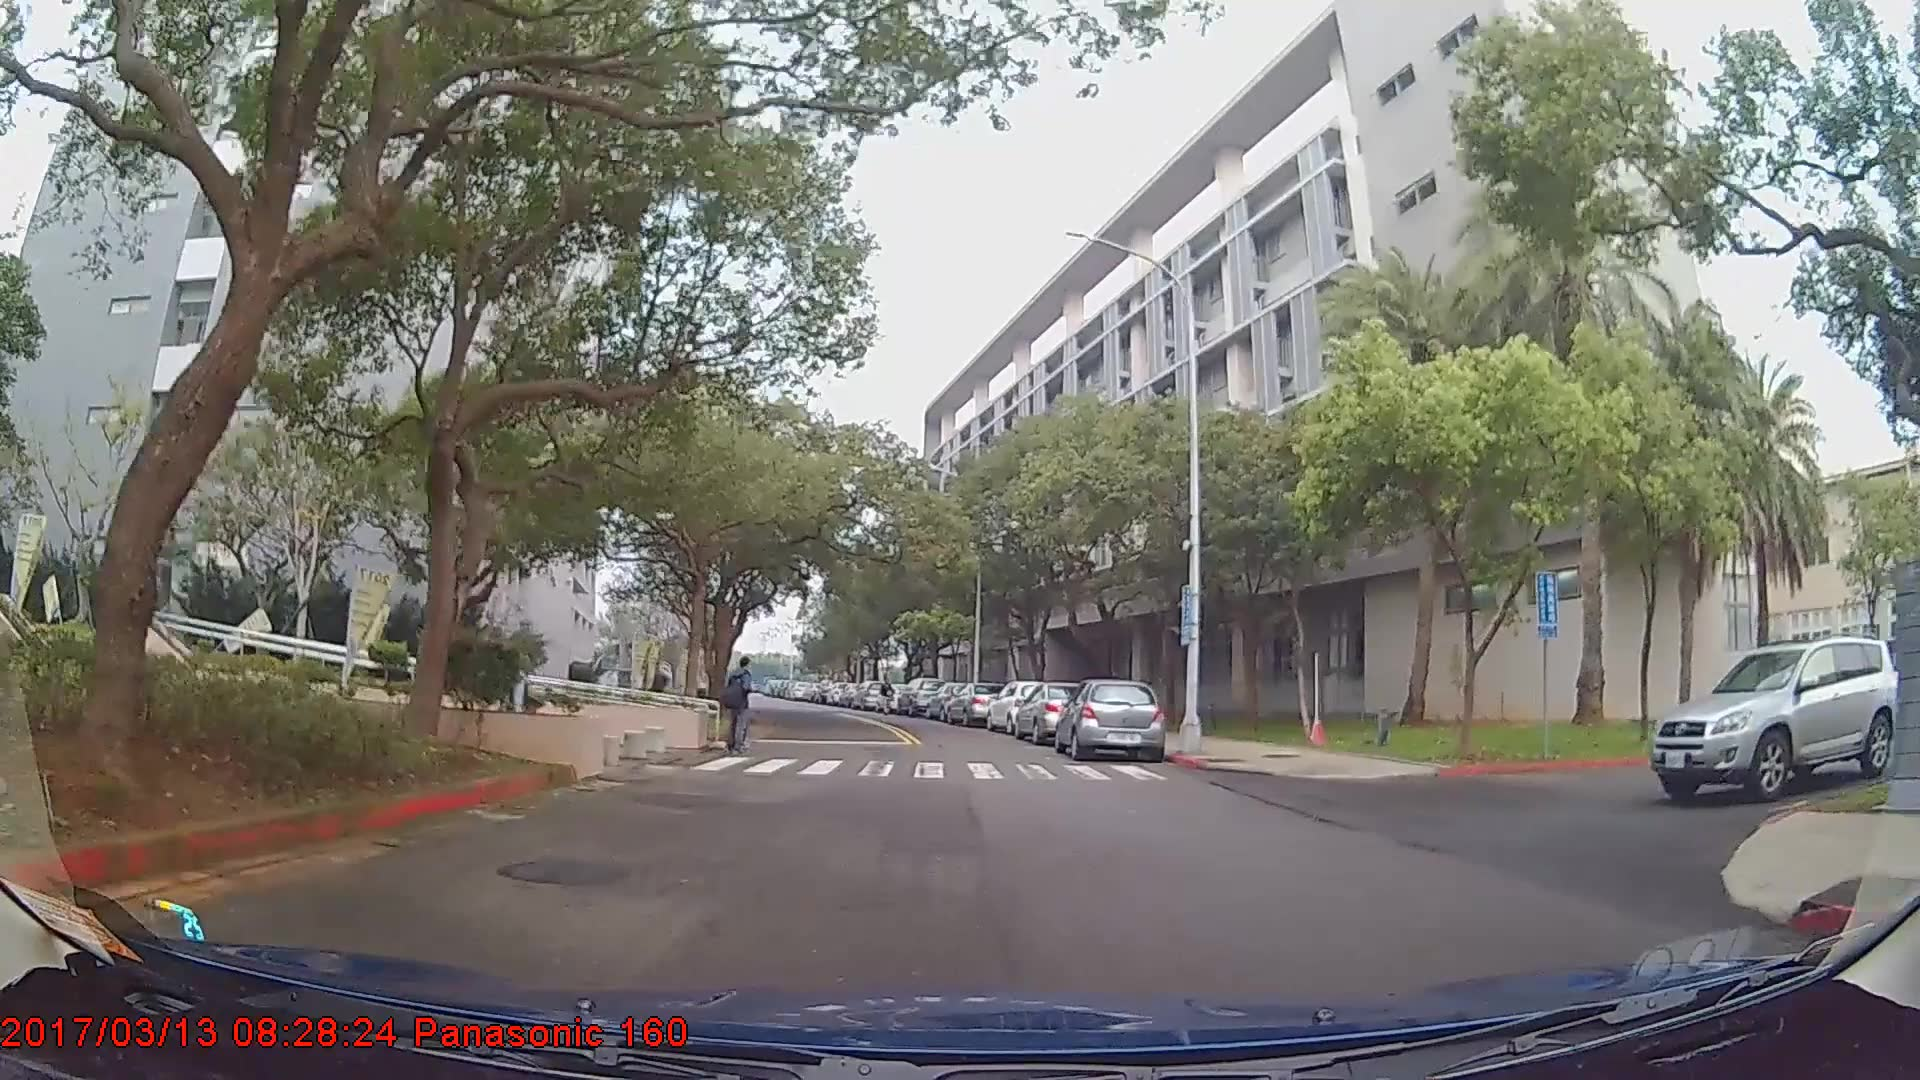pedestrian: (723, 659, 763, 764), (503, 657, 542, 752), (877, 674, 897, 717)
vehicle: (1649, 635, 1900, 802), (1053, 678, 1166, 761), (1012, 682, 1099, 746), (984, 681, 1060, 735), (943, 682, 1007, 729), (895, 677, 943, 717)
